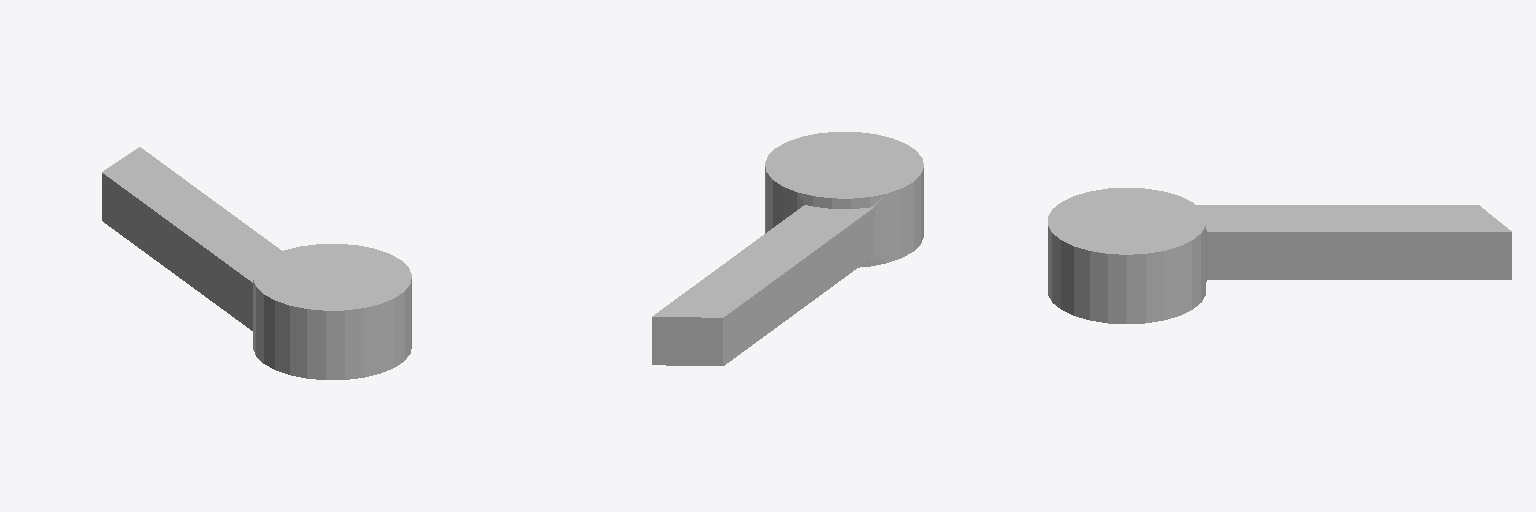
Rendered from THIGH_C.obj.
3 views of the same model, side by side, from view 1: azimuth 30°, elevation 25°; view 2: azimuth 150°, elevation 25°; view 3: azimuth 270°, elevation 25° (orthographic).
Parts seen in each view (by area): view 1: default; view 2: default; view 3: default.
Part boxes in pixels (left/top/right/bottom): default: left=102, top=147, right=411, bottom=379; default: left=652, top=132, right=923, bottom=365; default: left=1048, top=188, right=1511, bottom=323.
Size of the model in its own units: 0.11 by 0.053 by 0.3206.